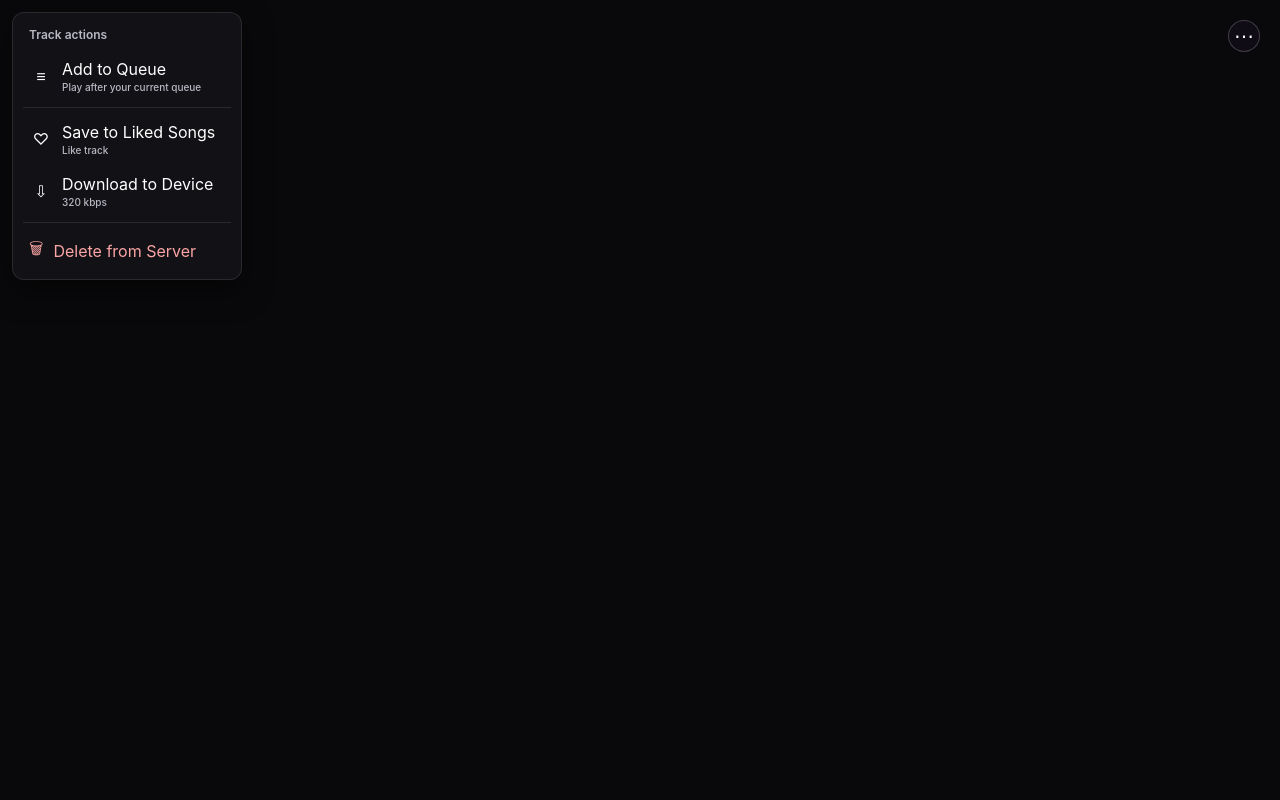
Scenario: album card menu confirms deletion of the album
The image size is (1280, 800).
Click the button named "More options for Night Drive" at (1244, 36), box x1=1228 y1=20 x2=1260 y2=52
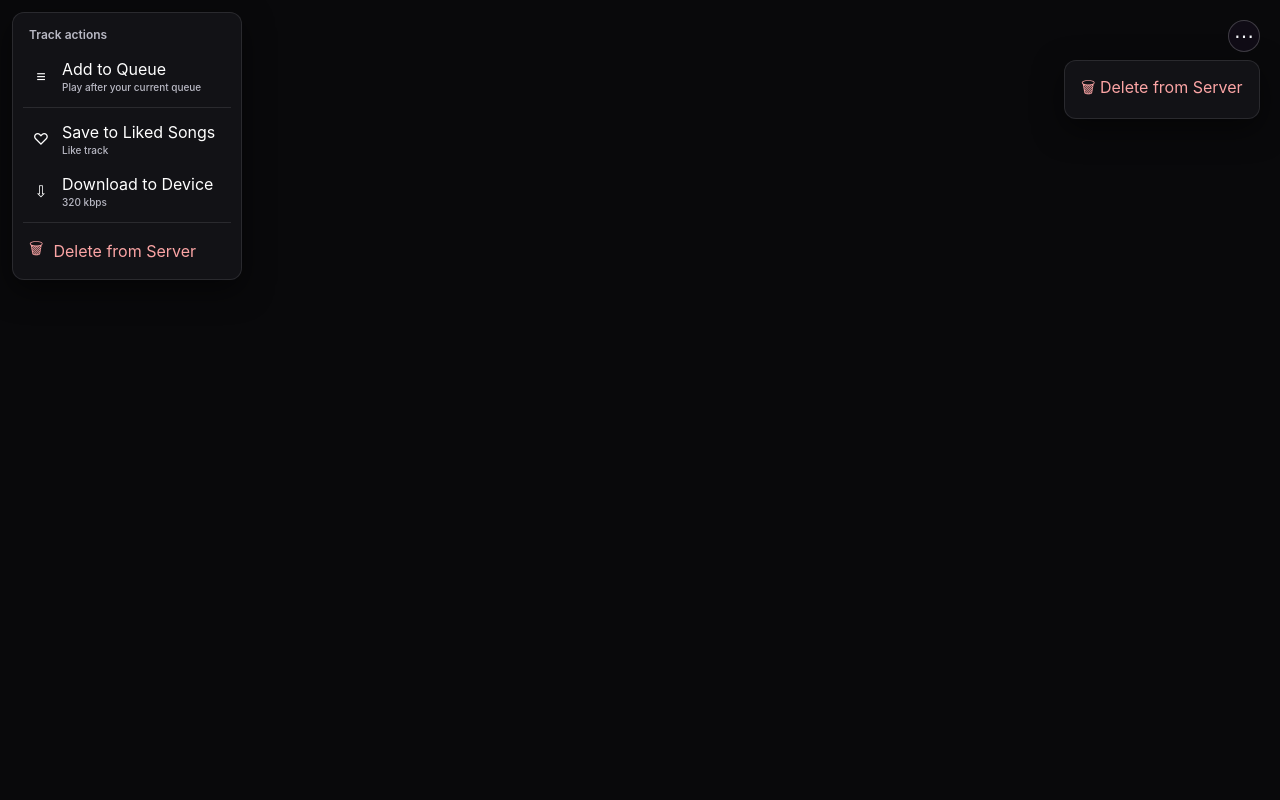
Click the 1st menu item "🗑 Delete from Server" at (1162, 90), box x1=1071 y1=67 x2=1253 y2=112
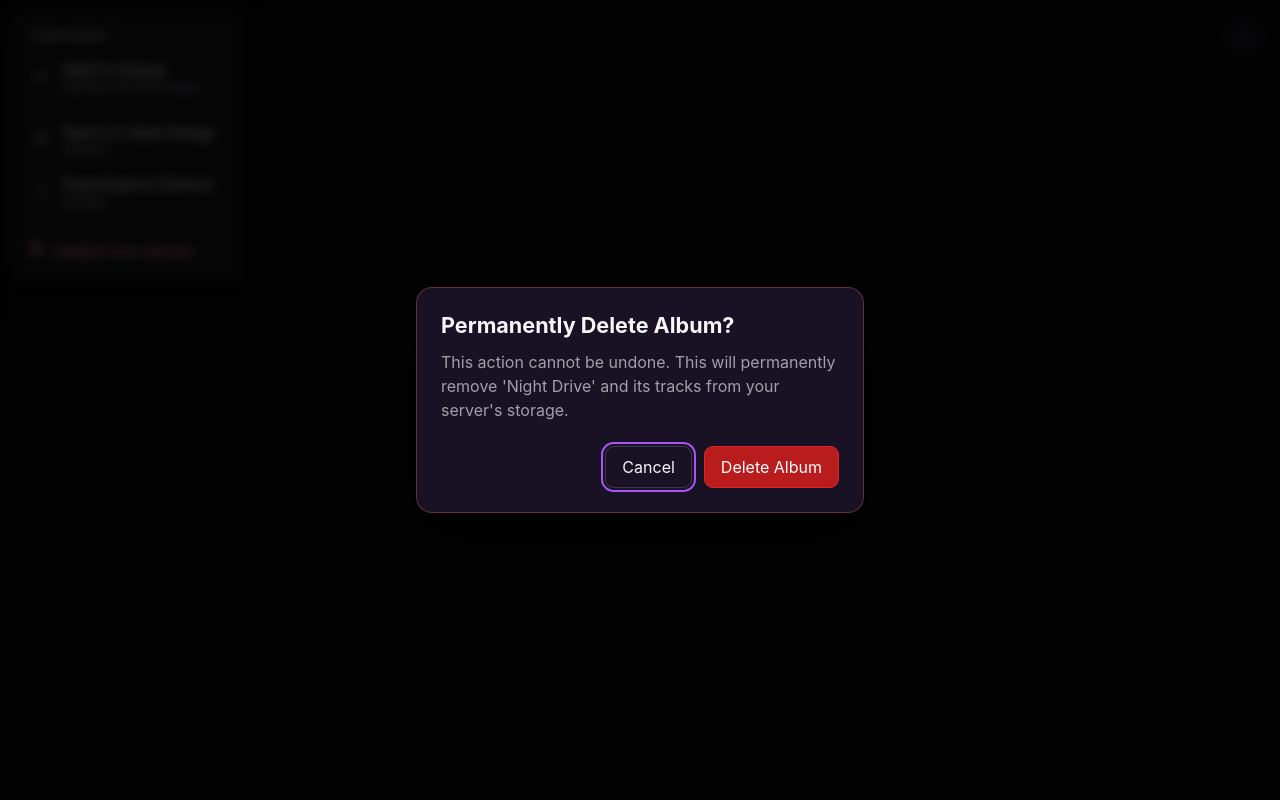
Now the dialog "Permanently Delete Album?" shows "Night Drive", box x1=507 y1=376 x2=591 y2=396
Click the button "Delete Album" at (771, 467), box x1=704 y1=446 x2=839 y2=488
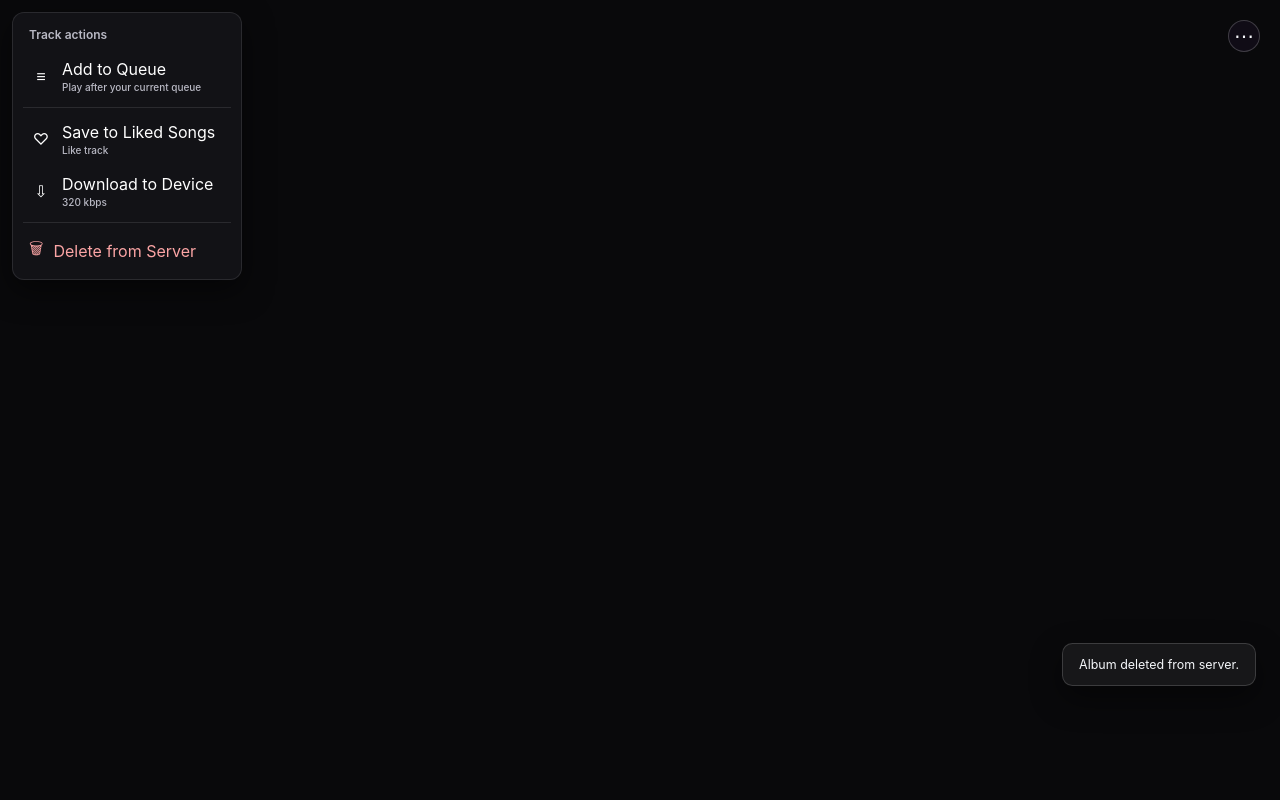
Now the message reads "Album deleted from server.", box x1=1079 y1=656 x2=1239 y2=672
